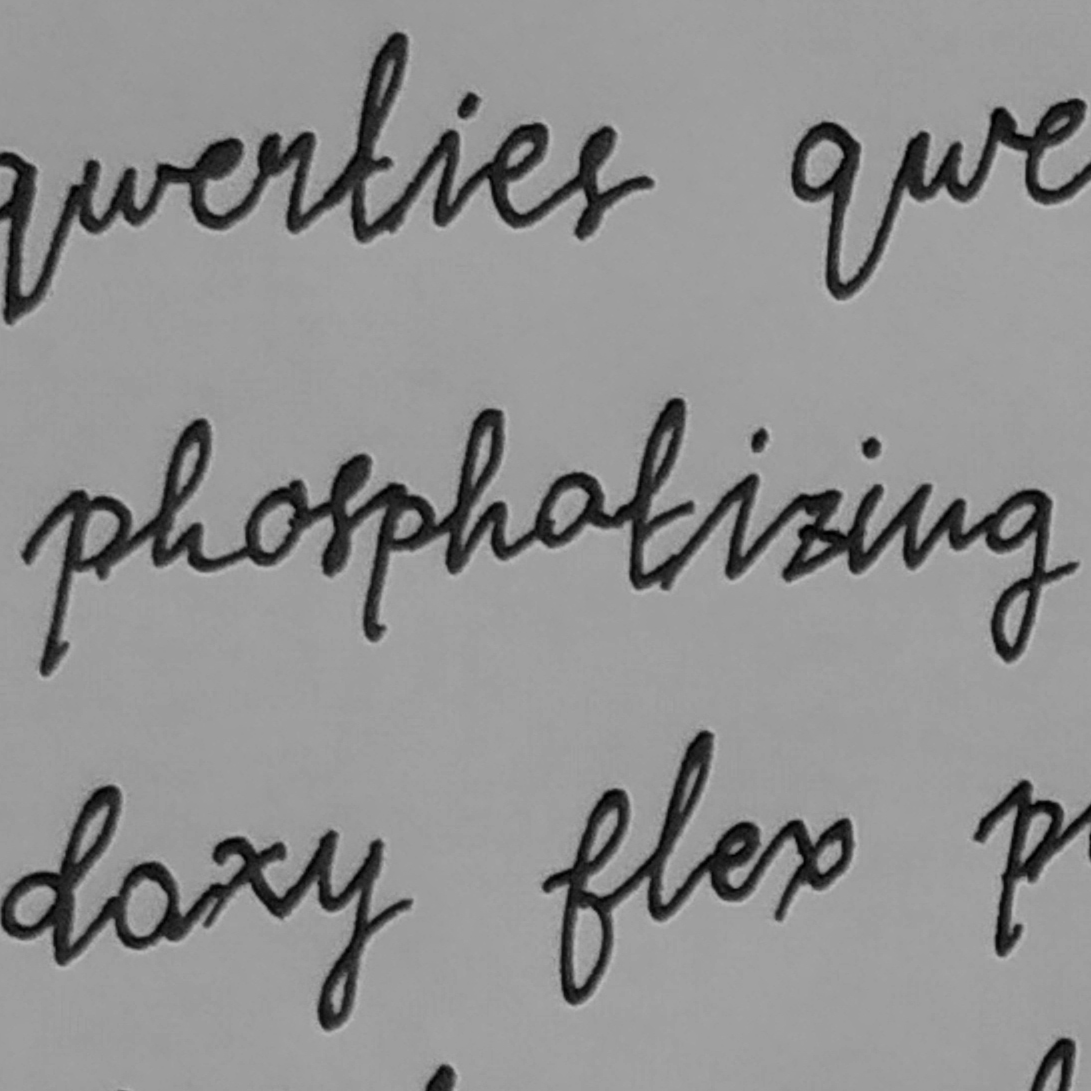a: (526, 465, 612, 558)
g: (976, 482, 1087, 668)
h: (441, 402, 522, 578), (146, 411, 228, 578)
i: (713, 422, 774, 584), (846, 430, 891, 582)
n: (896, 476, 972, 578)
o: (238, 471, 313, 572)
p: (34, 485, 140, 680), (357, 479, 441, 646)
s: (314, 446, 376, 580)
t: (615, 390, 704, 598)
z: (777, 483, 847, 585)
